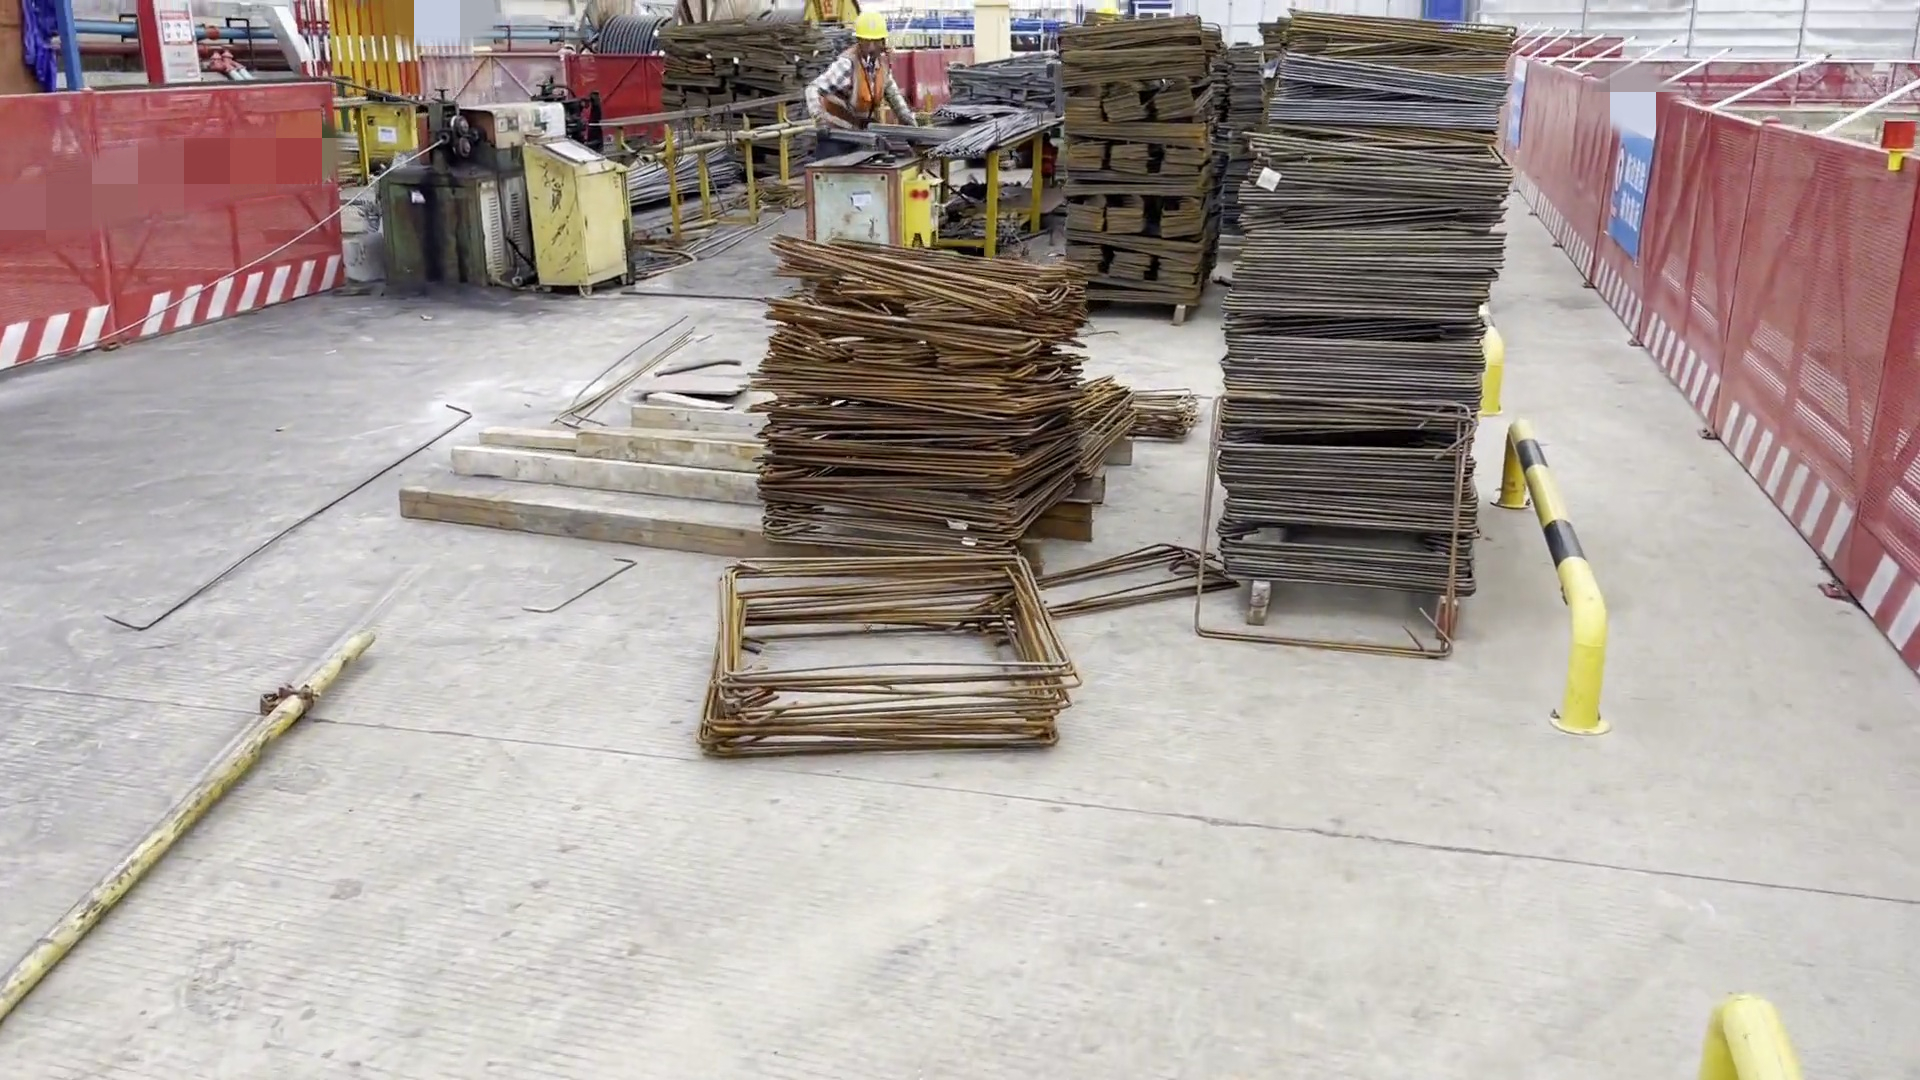cutter: (807, 147, 936, 267), (337, 72, 448, 205)
ebox: (516, 139, 623, 290), (325, 5, 429, 135), (961, 8, 1022, 72)
fence: (1722, 115, 1920, 669), (1, 76, 344, 391), (1513, 55, 1761, 431)
helmet: (847, 4, 897, 50)
person: (794, 7, 921, 156)
rebar: (622, 128, 754, 222), (879, 109, 1049, 162)
slogan: (1596, 95, 1658, 257), (1498, 51, 1540, 164)
vest: (830, 50, 920, 122)
